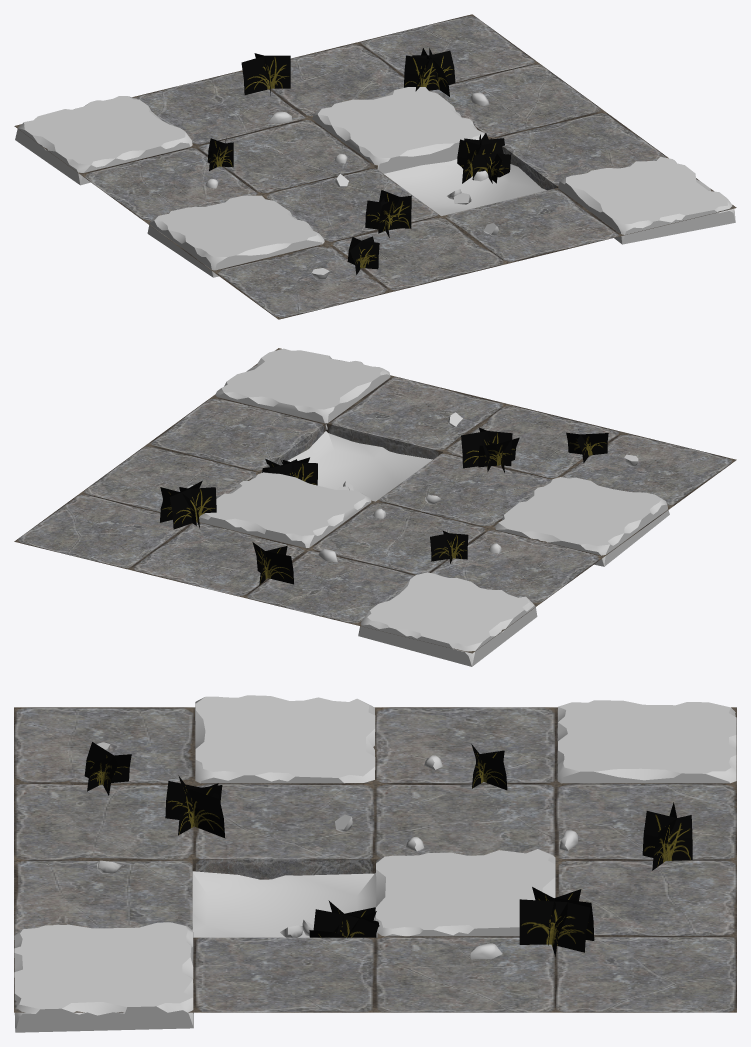
Rendered from floor.obj.
3 renders of one model, top to bottom at view 1: azimuth 30°, elevation 25°; view 2: azimuth 150°, elevation 25°; view 3: azimuth 270°, elevation 25°, orthographic. The views are drawn at different scales.
Parts seen in each view (by area): view 1: StoneFloor, StoneFloor_Details, StoneFloor_Grass; view 2: StoneFloor, StoneFloor_Details, StoneFloor_Grass; view 3: StoneFloor, StoneFloor_Details, StoneFloor_Grass.
Boxes of the visible parts, box(x1,y1,x2,y2) form: StoneFloor: box(14, 14, 736, 319); StoneFloor_Details: box(15, 87, 735, 279); StoneFloor_Grass: box(207, 48, 510, 274); StoneFloor: box(14, 348, 736, 653); StoneFloor_Details: box(187, 348, 669, 666); StoneFloor_Grass: box(160, 427, 608, 585); StoneFloor: box(14, 707, 736, 1012); StoneFloor_Details: box(14, 695, 736, 1032); StoneFloor_Grass: box(84, 742, 692, 956).
Bounding box in the file's own units: 3.82 × 0.4754 × 3.82.
